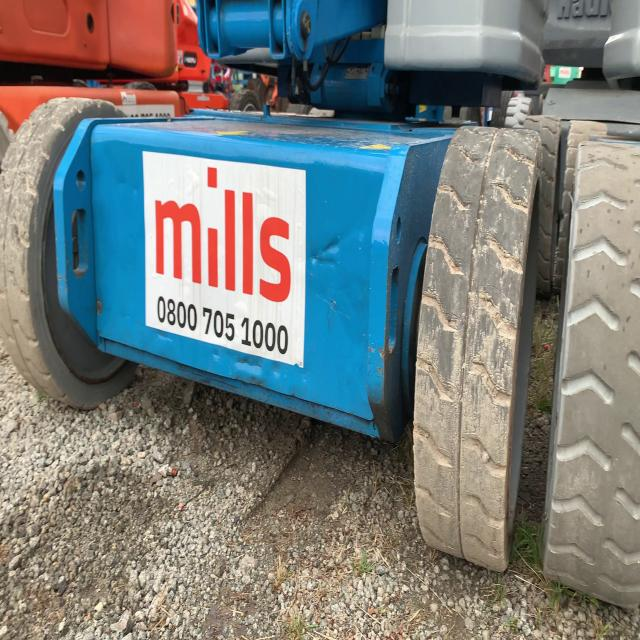Adesivos: (141, 149, 307, 371)
